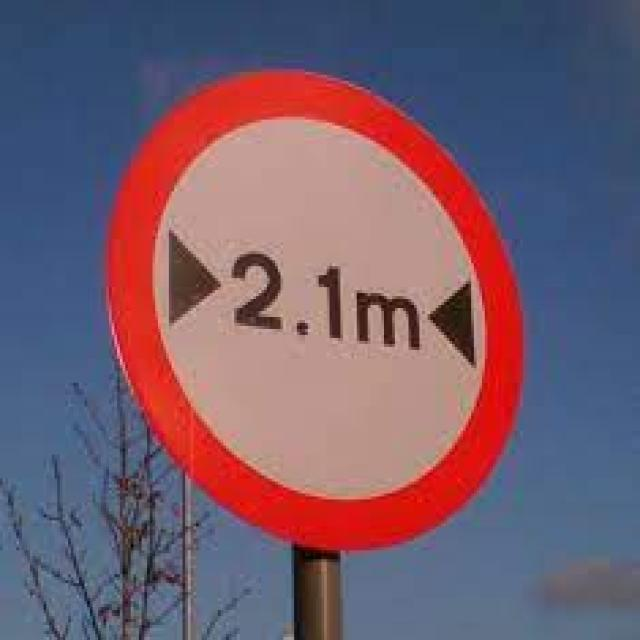width limit: (104, 67, 531, 554)
